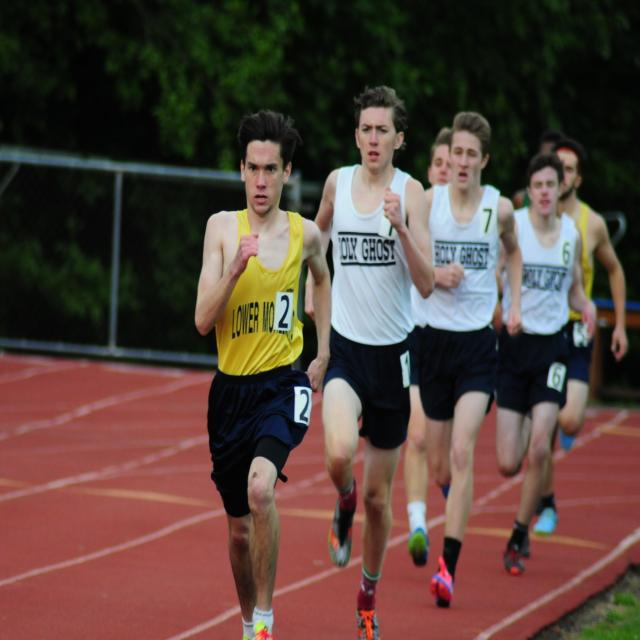body: (189, 103, 337, 640), (299, 80, 438, 640), (416, 109, 526, 608), (490, 148, 600, 578), (531, 136, 630, 537), (403, 124, 453, 569), (509, 134, 569, 212)
